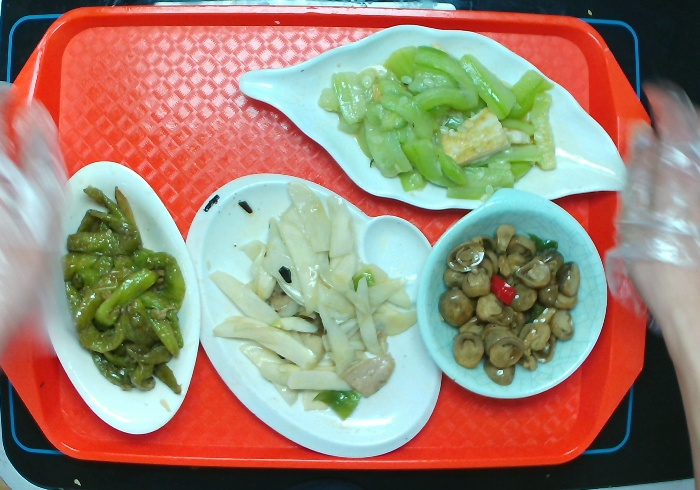RJxy-Bai_Se_Tuo_Yuan: (39, 155, 200, 443)
RJxy-Shu_Ye_Pan: (233, 22, 633, 218)
RJxy-Xiao_Jiao_Yuan_Wan: (412, 183, 610, 403)
RJxy-Zhan_Liao_Pan: (178, 169, 446, 462)
